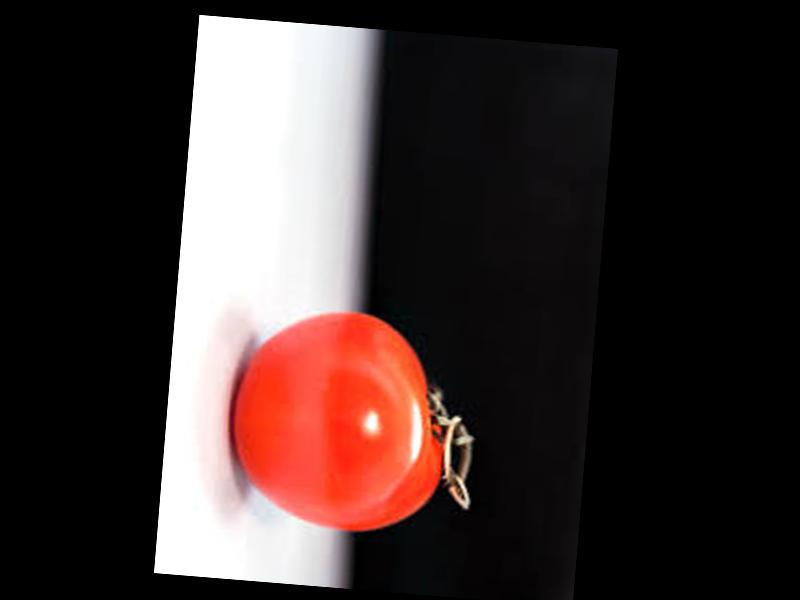Tomato: (224, 302, 455, 538)
